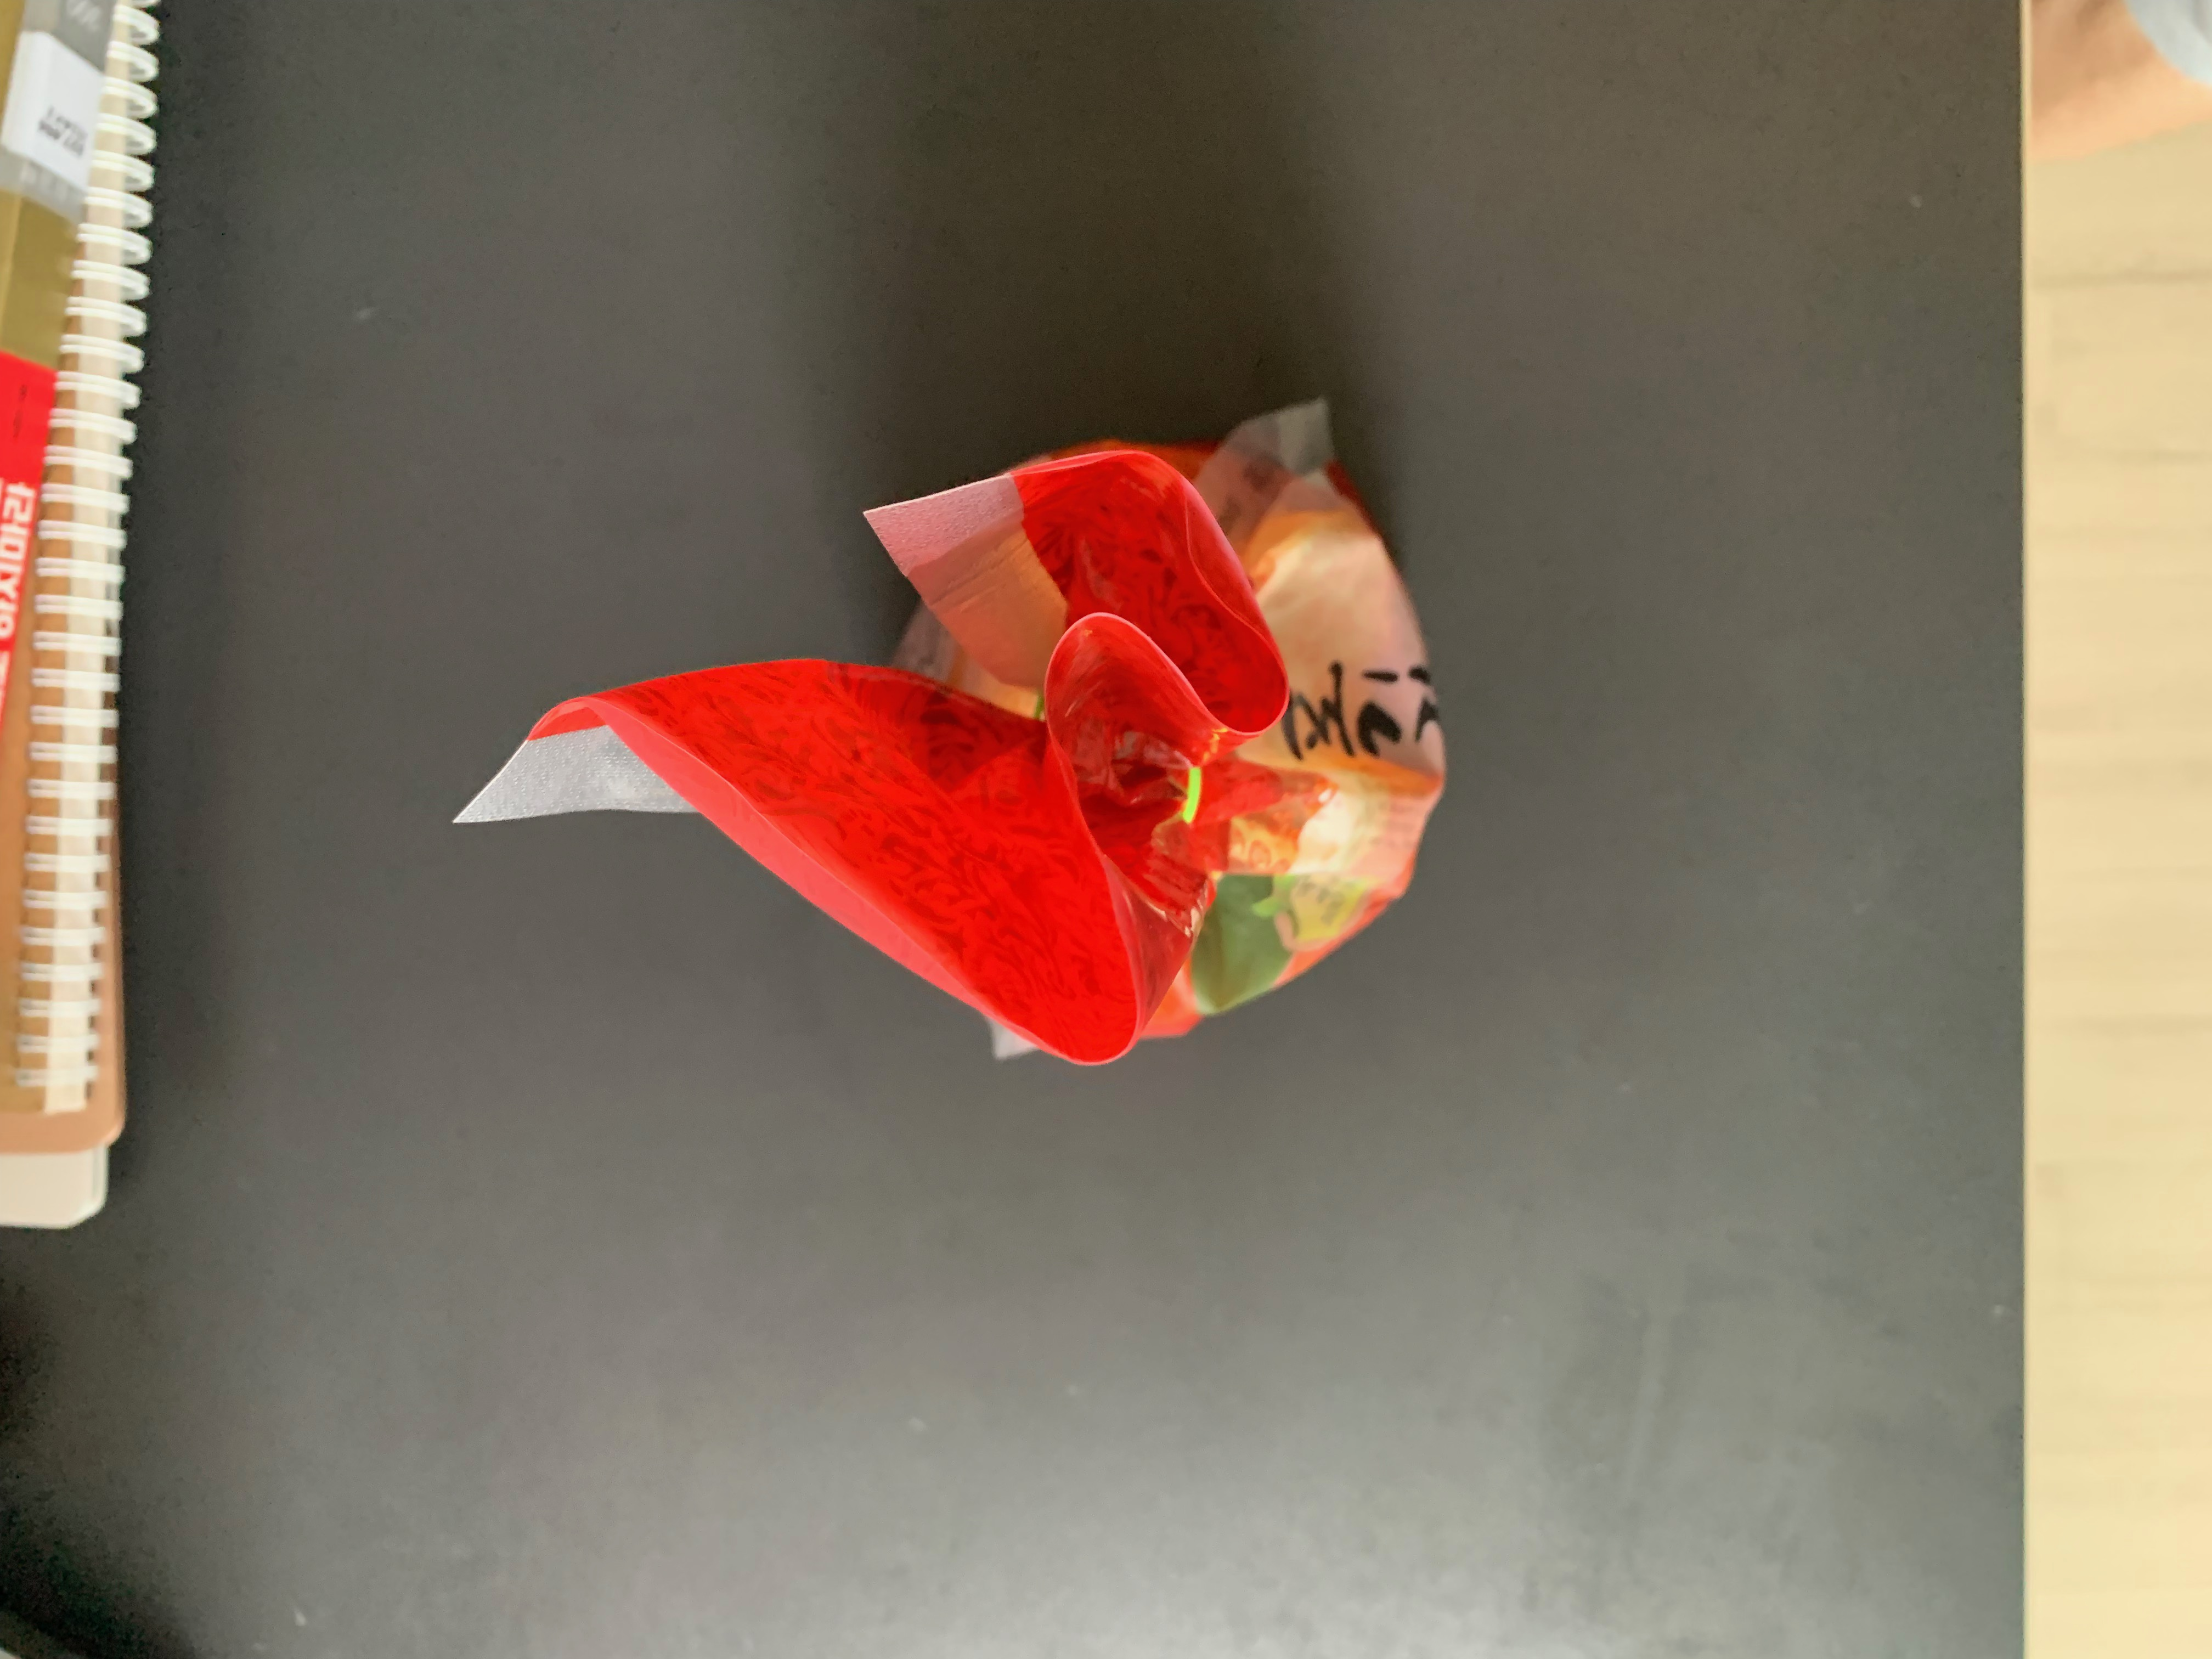kimchi: (606, 439, 1451, 1065)
